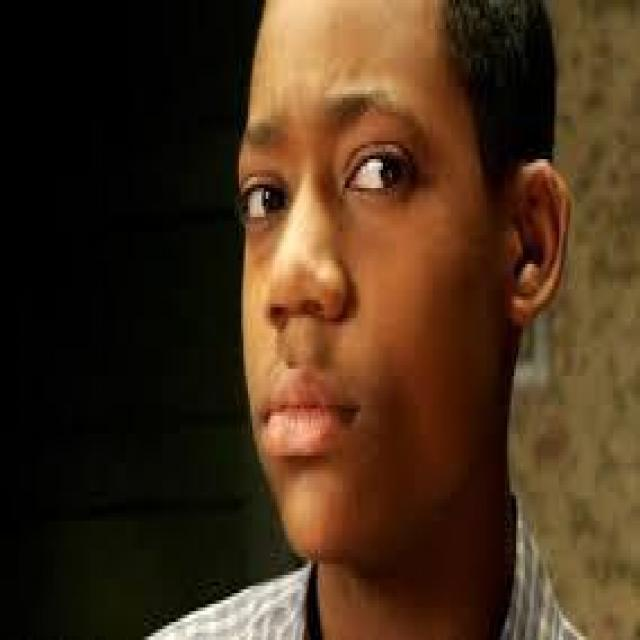person: (137, 0, 608, 622)
